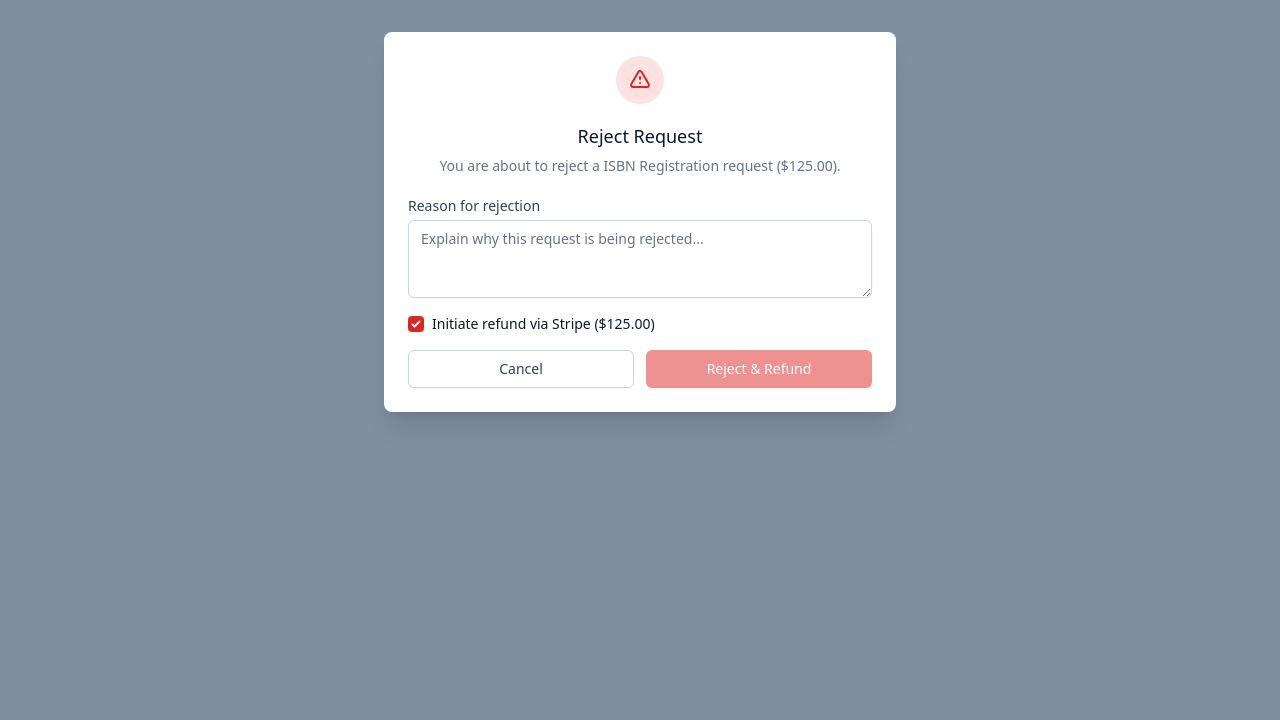
Scenario: RejectRequestModal › displays error message on API failure
Type "Test reason" into the text box with placeholder "Explain why this request is being rejected..." at (640, 259), box [408,220,872,298]
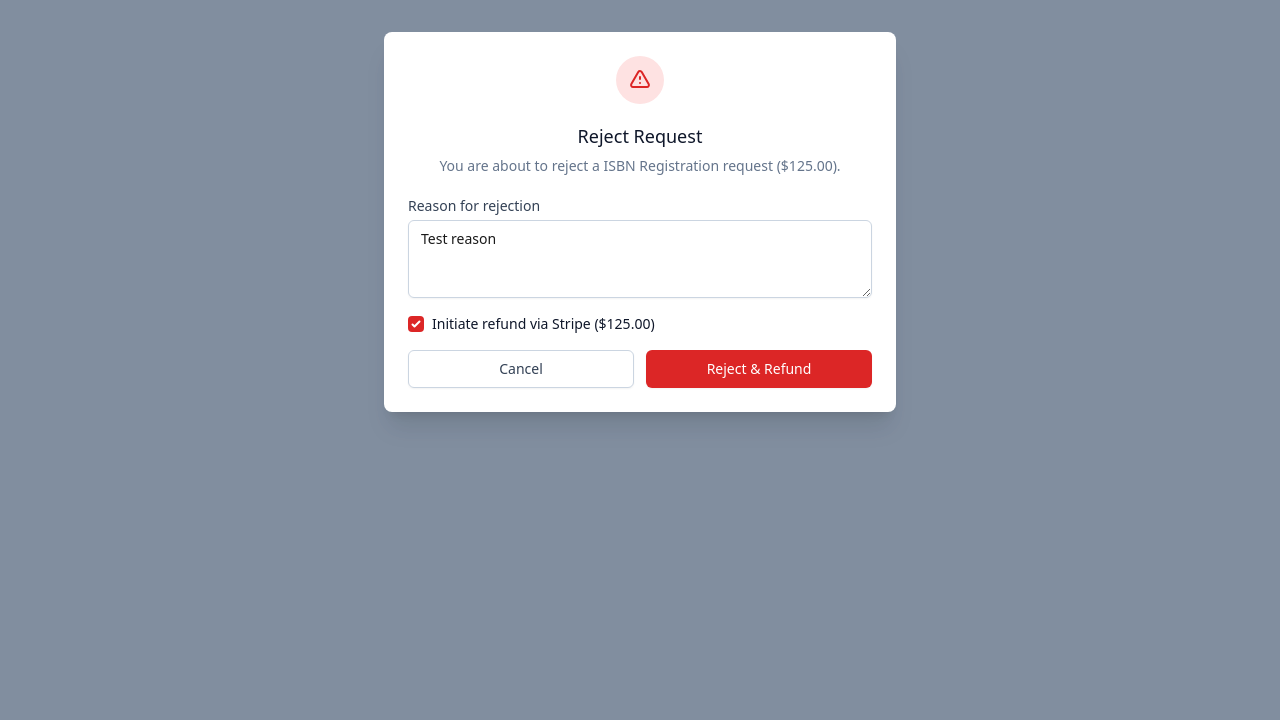
Click the button "Reject & Refund" at (759, 369), box [646,350,872,388]
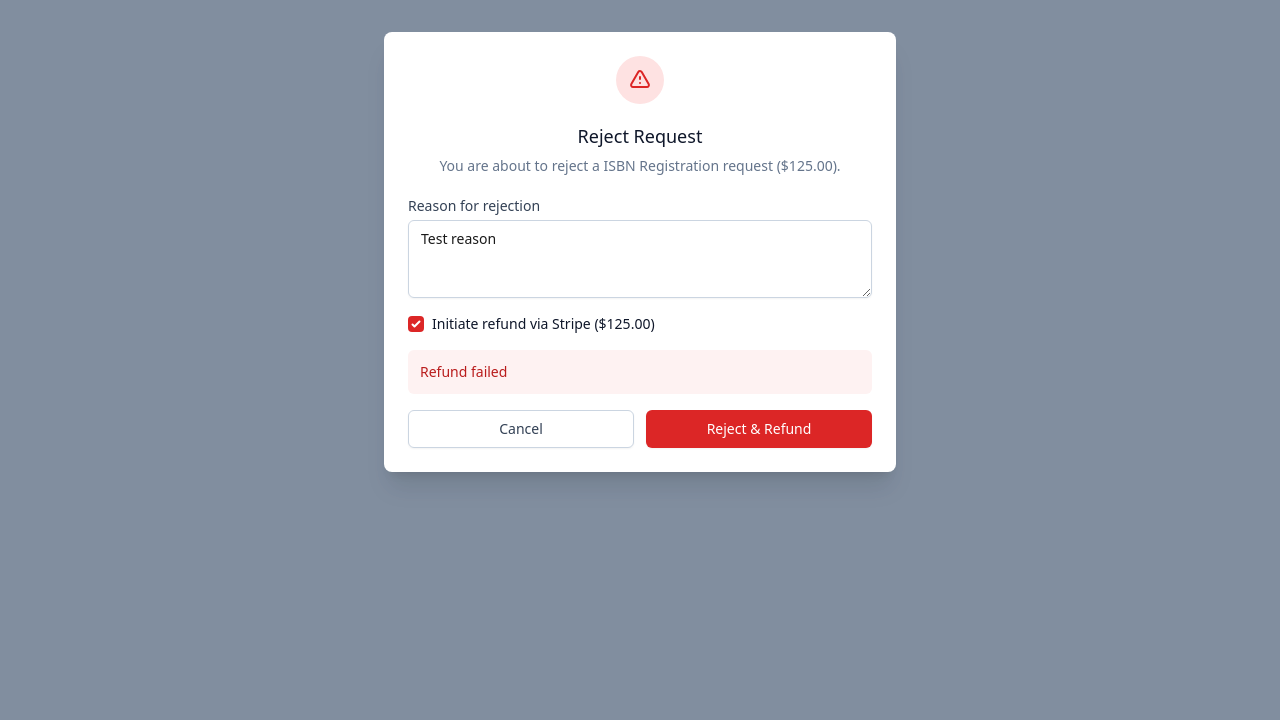
Now the text "Refund failed" is shown, box [420,362,507,381]
